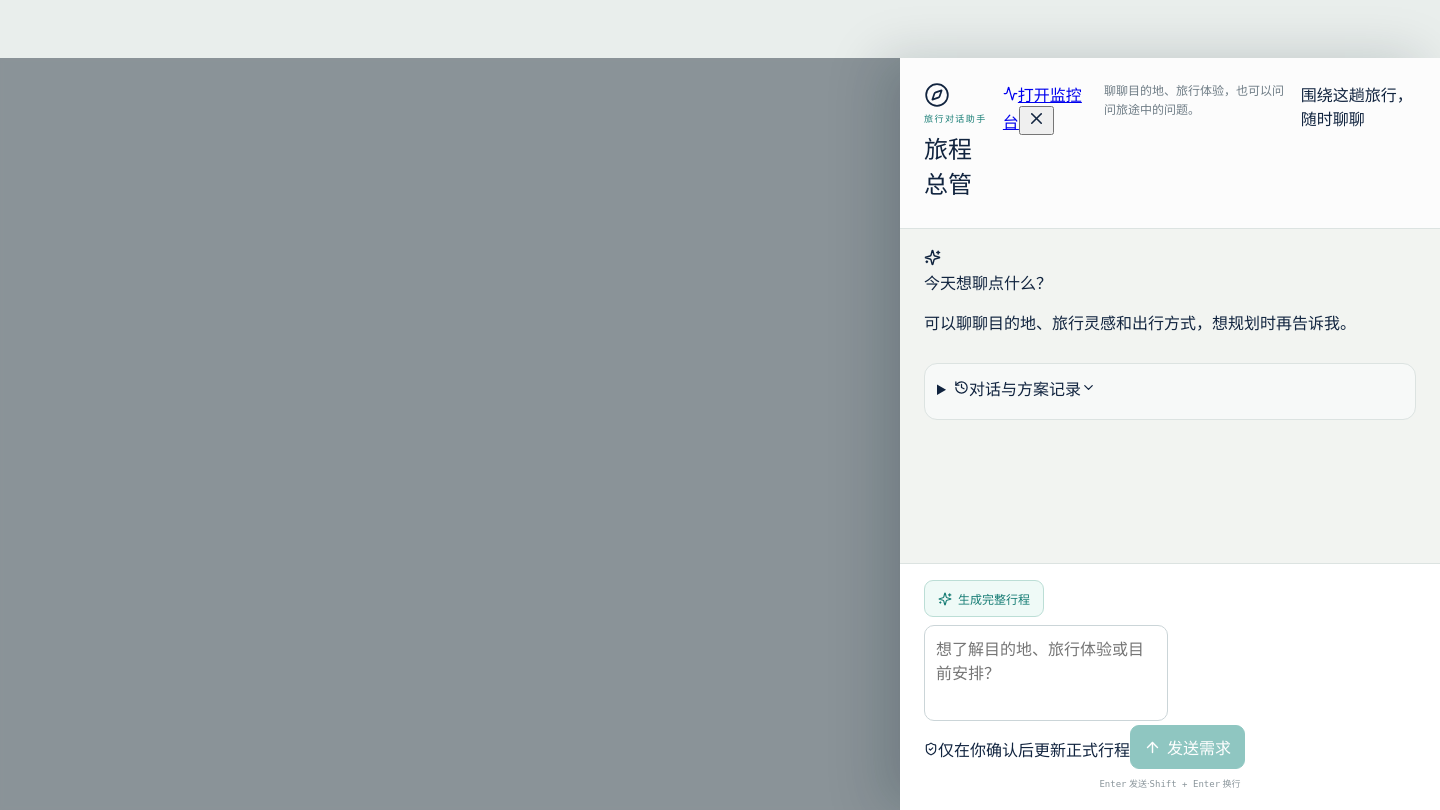
Test: shows planning history failures without blocking Companion chat
Click the heading "对话与方案记录" at (1025, 389), box x1=954 y1=379 x2=1096 y2=399
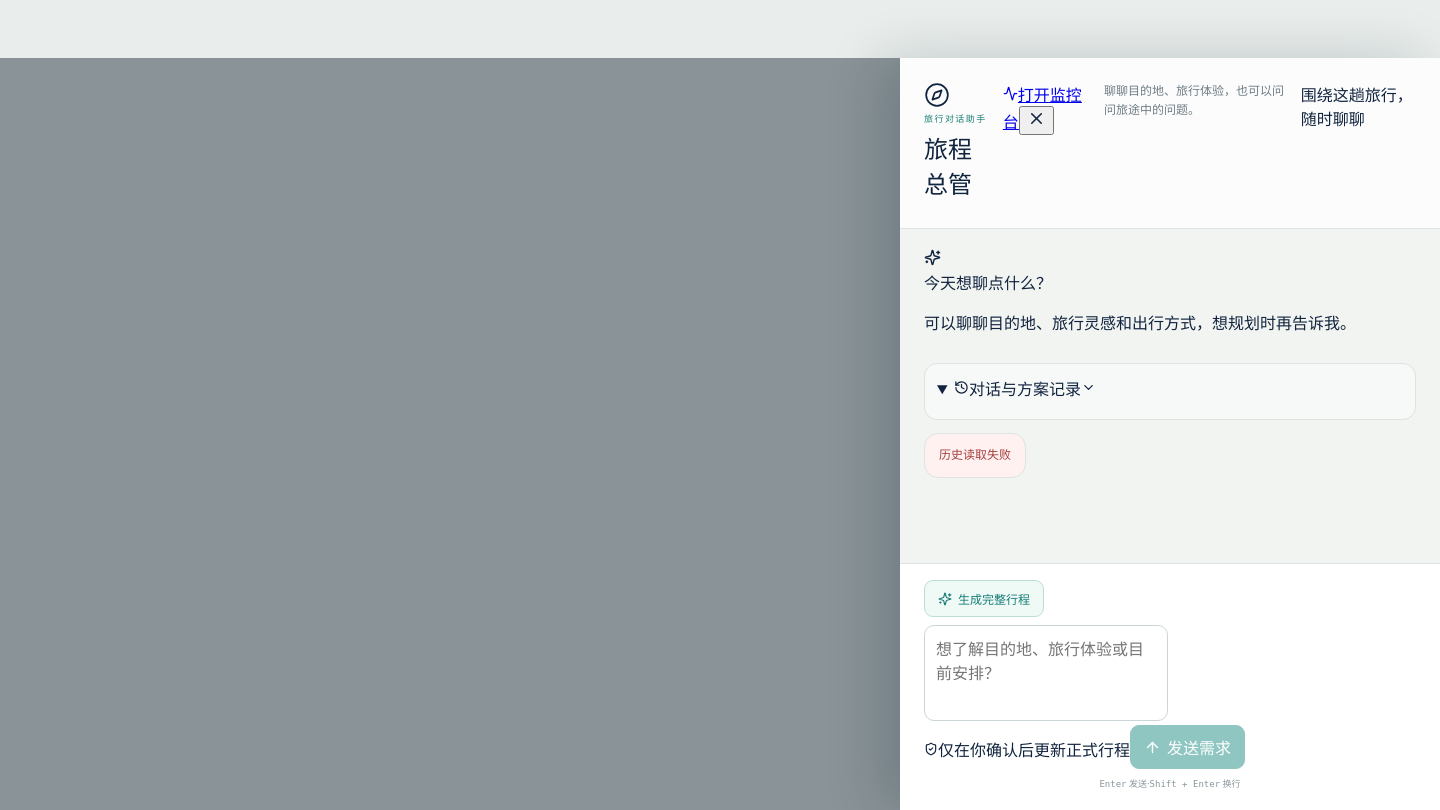
Expected: the text box named "告诉旅程总管" is enabled, x1=924 y1=625 x2=1168 y2=721
Expected: the message reads "历史读取失败", x1=939 y1=447 x2=1011 y2=462
